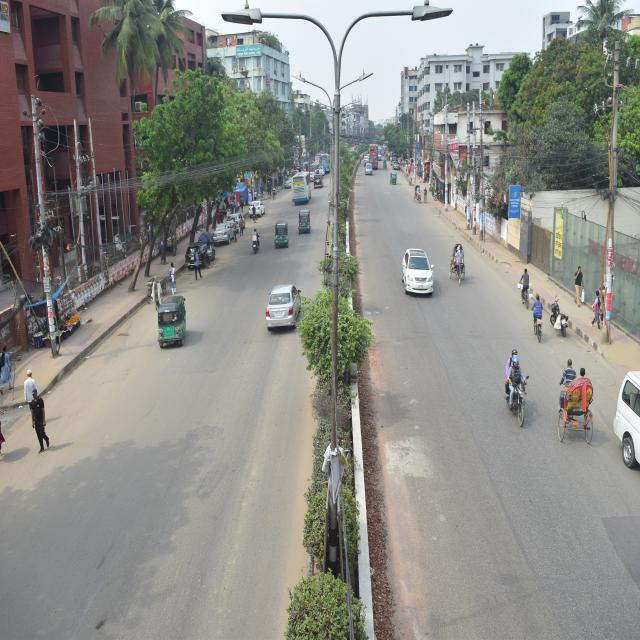bus: (292, 166, 311, 209), (369, 134, 382, 167)
car: (401, 237, 440, 304), (268, 278, 302, 338), (182, 236, 212, 277), (212, 216, 235, 251), (250, 195, 268, 220), (363, 160, 374, 177)
microbus: (606, 350, 640, 492)
motorbike: (494, 363, 533, 437), (544, 293, 572, 339), (250, 229, 262, 259)
